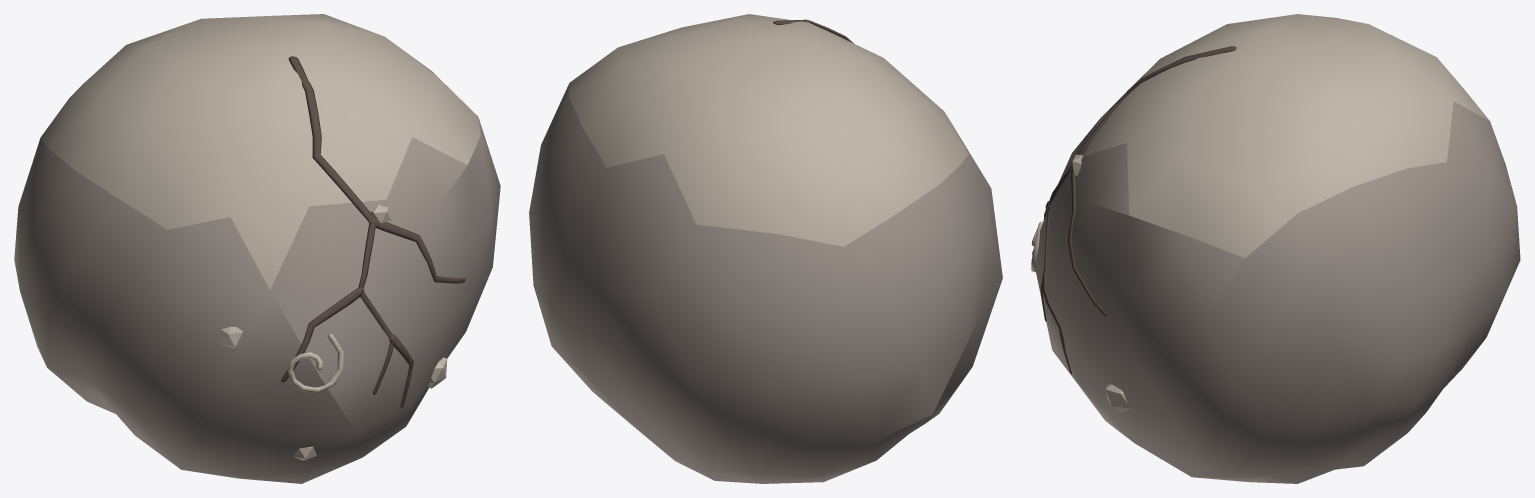
Rendered from rock.glb.
3 renders of one model, left to right at view 1: azimuth 30°, elevation 25°; view 2: azimuth 150°, elevation 25°; view 3: azimuth 270°, elevation 25°, orthographic. The views are drawn at different scales.
Parts seen in each view (by area): view 1: rock, crack; view 2: rock; view 3: rock, crack.
Part boxes in pixels (x1=…): rock: x1=14, y1=14, x2=500, y2=483; crack: x1=281, y1=56, x2=465, y2=407; rock: x1=529, y1=14, x2=1002, y2=483; rock: x1=1031, y1=14, x2=1520, y2=483; crack: x1=1040, y1=46, x2=1236, y2=374.
Size of the model in its own units: 0.95 by 0.8568 by 0.9387.
